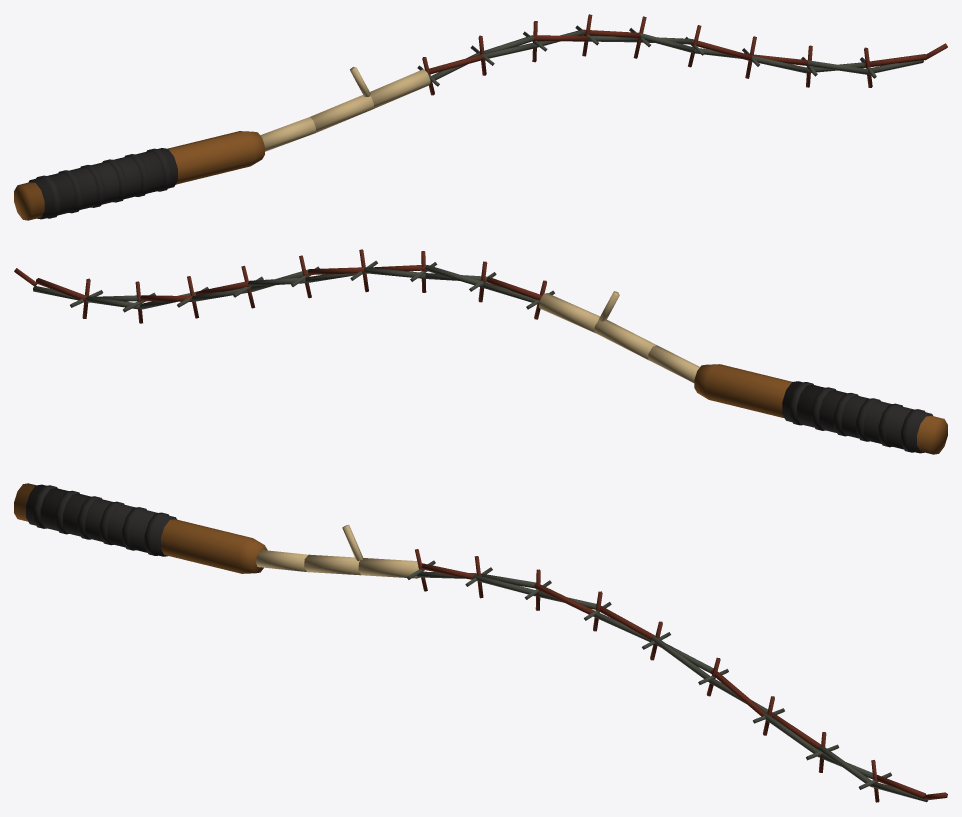
Rendered from item_barbed_wire.glb.
The picture shows the model from 3 angles, top to bottom: view 1: azimuth 30°, elevation 25°; view 2: azimuth 150°, elevation 25°; view 3: azimuth 330°, elevation 25°; orthographic projection.
Parts seen in each view (by area): view 1: stub, grip, hang_1, hang_2, hang_0; view 2: stub, grip, hang_2, hang_1, hang_0; view 3: stub, grip, hang_2, hang_1, hang_0.
Part boxes in pixels (x1,y1,x2,y2): stub: (14, 131, 264, 220); grip: (28, 148, 177, 219); hang_1: (310, 95, 373, 132); hang_2: (370, 69, 430, 108); hang_0: (260, 117, 315, 151); stub: (694, 364, 947, 454); grip: (782, 381, 932, 453); hang_2: (538, 293, 599, 333); hang_1: (594, 320, 656, 360); hang_0: (648, 345, 699, 382); stub: (14, 483, 267, 573); grip: (26, 484, 176, 556); hang_2: (358, 558, 419, 578); hang_1: (304, 554, 360, 575); hang_0: (255, 550, 308, 571).
Bounding box in the file's own units: 1.08 × 0.1679 × 0.0682.
